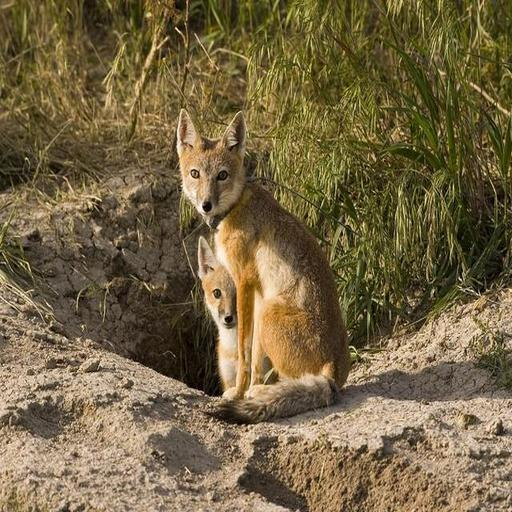Fox: (172, 108, 351, 428), (193, 233, 313, 453)
